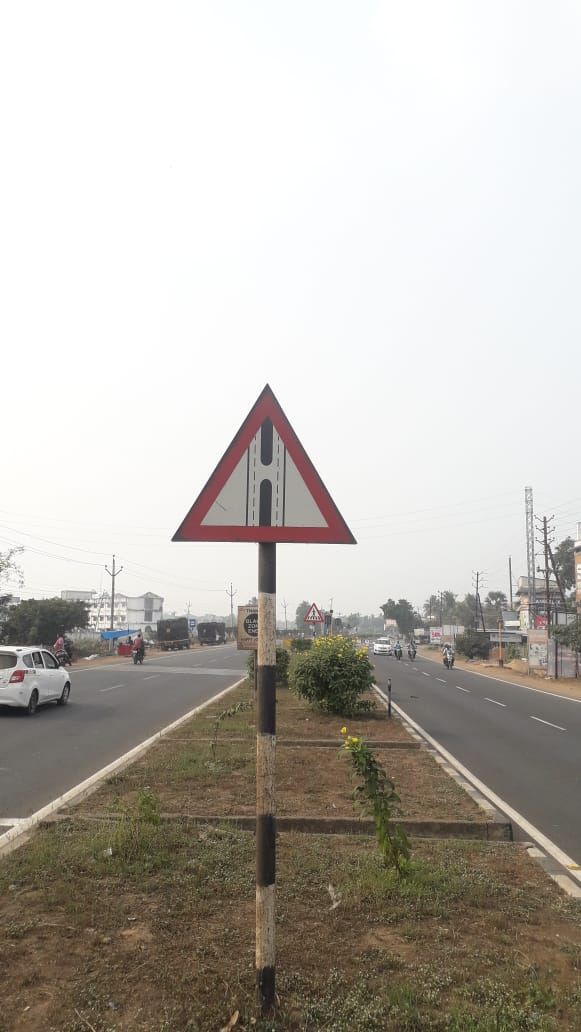highway go straight: (161, 366, 377, 581)
